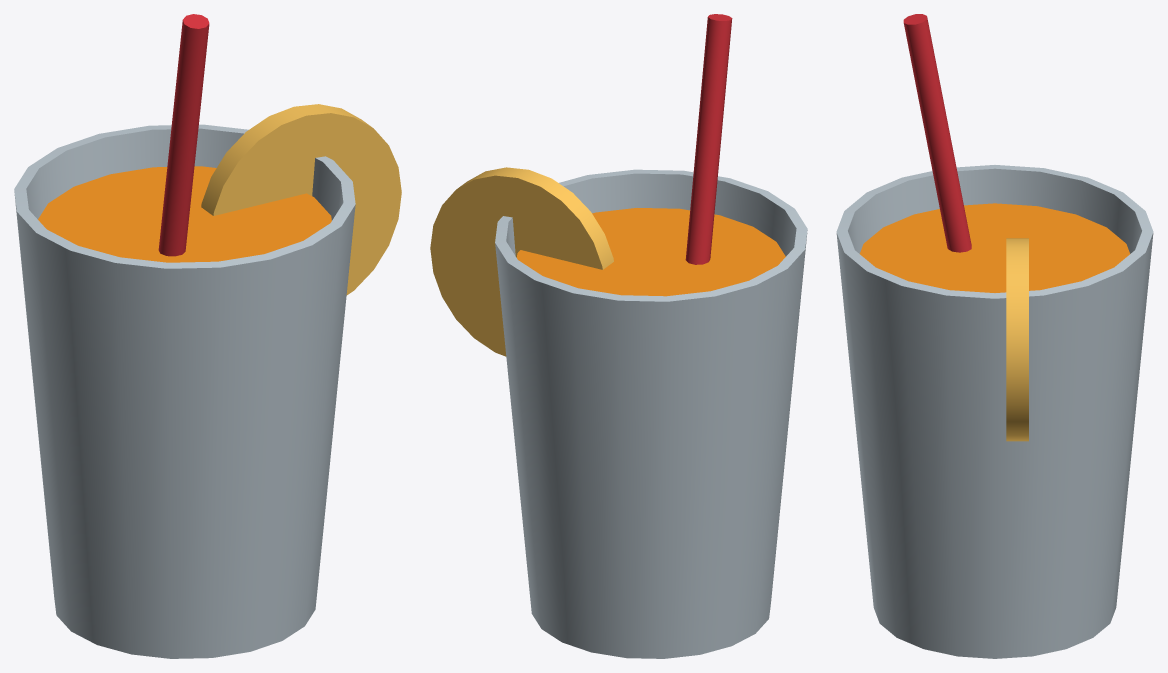
Rendered from Cafe_L5.fbx.
The picture shows the model from 3 angles, left to right: view 1: azimuth 30°, elevation 25°; view 2: azimuth 150°, elevation 25°; view 3: azimuth 270°, elevation 25°; orthographic projection. The views are drawn at different scales.
Parts seen in each view (by area): view 1: C5_Glass, C5_Slice, C5_Juice, C5_Straw; view 2: C5_Glass, C5_Slice, C5_Juice, C5_Straw; view 3: C5_Glass, C5_Juice, C5_Straw, C5_Slice.
Boxes of the visible parts, box(x1,y1,x2,y2) form: C5_Glass: box(14, 124, 355, 658); C5_Slice: box(201, 104, 401, 295); C5_Juice: box(38, 166, 331, 262); C5_Straw: box(158, 14, 209, 256); C5_Glass: box(495, 169, 807, 658); C5_Slice: box(430, 167, 613, 356); C5_Juice: box(517, 208, 785, 296); C5_Straw: box(685, 14, 732, 264); C5_Glass: box(836, 165, 1153, 658); C5_Juice: box(860, 203, 1129, 292); C5_Straw: box(903, 14, 971, 252); C5_Slice: box(1006, 238, 1028, 441).
Size of the model in its own units: 17.5 by 28.05 by 14.
